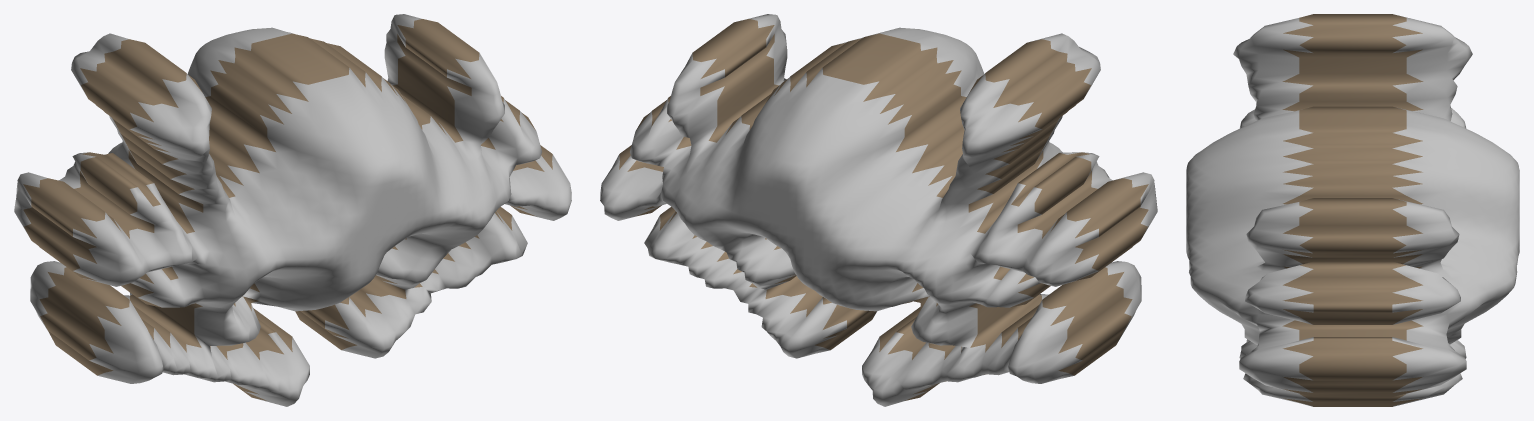
File: bones.glb
3 views of the same model, side by side, from view 1: azimuth 30°, elevation 25°; view 2: azimuth 150°, elevation 25°; view 3: azimuth 270°, elevation 25° (orthographic). The views are drawn at different scales.
Parts seen in each view (by area): view 1: bones; view 2: bones; view 3: bones.
Part boxes in pixels (left/top/right/bottom): bones: left=14, top=14, right=571, bottom=406; bones: left=600, top=14, right=1157, bottom=406; bones: left=1186, top=14, right=1519, bottom=406.
Size of the model in its own units: 0.5488 by 0.3721 by 0.348.
